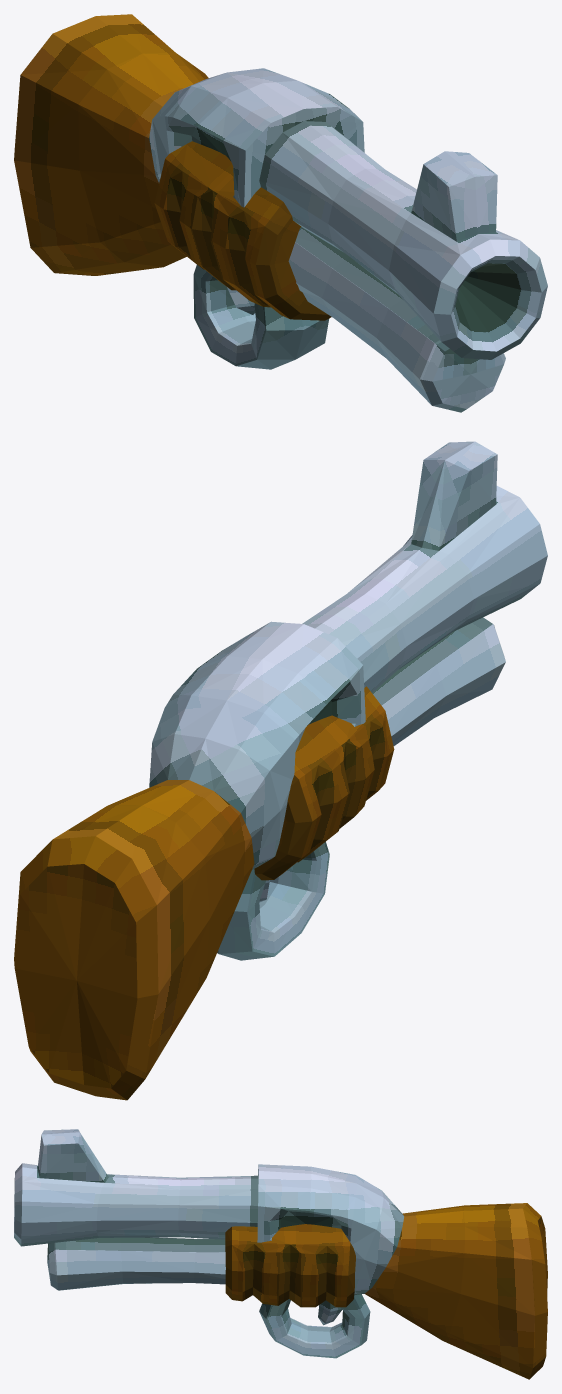
The model's file is Shotgun.obj.
The picture shows the model from 3 angles, top to bottom: view 1: azimuth 30°, elevation 25°; view 2: azimuth 150°, elevation 25°; view 3: azimuth 270°, elevation 25°; orthographic projection. The views are drawn at different scales.
Visible parts, largest first — view 1: Inst3D_RefRep.235; view 2: Inst3D_RefRep.235; view 3: Inst3D_RefRep.235.
Part boxes in pixels (<box>): Inst3D_RefRep.235: <box>14,14,547,412</box>; Inst3D_RefRep.235: <box>14,441,547,1100</box>; Inst3D_RefRep.235: <box>14,1129,547,1379</box>.
Size of the model in its own units: 0.9957 by 2.29 by 4.59.
